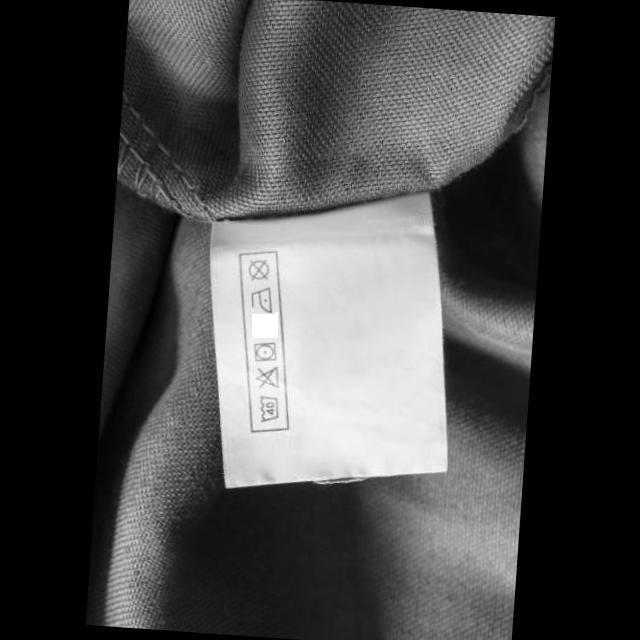40C: (256, 391, 280, 424)
DN_bleach: (252, 361, 282, 390)
DN_dry_clean: (245, 255, 272, 282)
iron_low: (248, 283, 274, 313)
tumble_dry_low: (252, 338, 278, 362)
